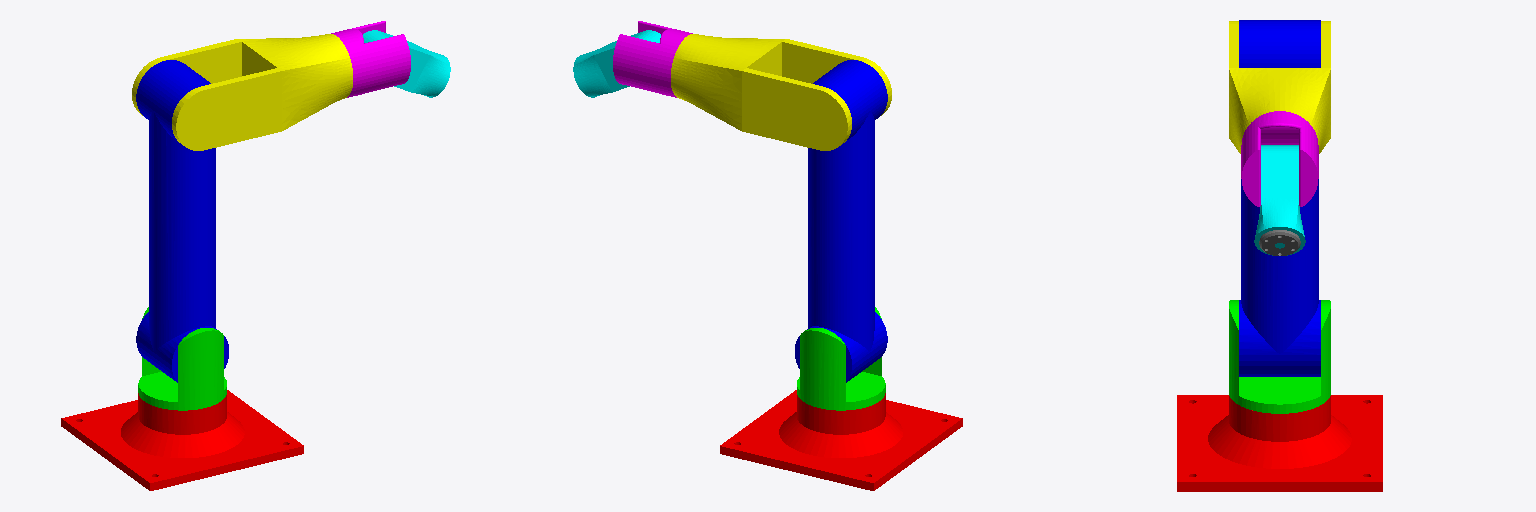
robot.urdf — robot:
<?xml version="1.0" encoding="utf-8" ?>
<!-- This URDF was automatically created by SolidWorks to URDF Exporter! Originally created by [author] ([email redacted]) 
     Commit Version: 1.6.0-4-g7f85cfe  Build Version: 1.6.7995.38578
     For more information, please see http://wiki.ros.org/sw_urdf_exporter -->
<robot name="robot">
    <link name="base_link">
        <inertial>
            <origin xyz="1.5072E-18 -3.3035E-19 0.014315" rpy="0 0 0" />
            <mass value="10" />
            <inertia ixx="0.0017523" ixy="-4.1359E-22" ixz="4.084E-22" iyy="0.0017523" iyz="2.4942E-21" izz="0.0032066" />
        </inertial>
        <visual>
            <origin xyz="0 0 0" rpy="0 0 0" />
            <geometry>
                <mesh filename="package://robot/meshes/base_link.STL" />
            </geometry>
            <material name="">
                <color rgba="1 0 0 1" />
            </material>
        </visual>
        <collision>
            <origin xyz="0 0 0" rpy="0 0 0" />
            <geometry>
                <mesh filename="package://robot/meshes/base_link.STL" />
            </geometry>
        </collision>
    </link>
    <link name="l1">
        <inertial>
            <origin xyz="3.1493E-08 1.2455E-07 0.069097" rpy="0 0 0" />
            <mass value="0.59293" />
            <inertia ixx="0.0013626" ixy="7.6125E-11" ixz="2.0454E-10" iyy="0.0011736" iyz="1.535E-09" izz="0.00056817" />
        </inertial>
        <visual>
            <origin xyz="0 0 0" rpy="0 0 0" />
            <geometry>
                <mesh filename="package://robot/meshes/l1.STL" />
            </geometry>
            <material name="">
                <color rgba="0 1 0 1" />
            </material>
        </visual>
        <collision>
            <origin xyz="0 0 0" rpy="0 0 0" />
            <geometry>
                <mesh filename="package://robot/meshes/l1.STL" />
            </geometry>
        </collision>
    </link>
    <joint name="j1" type="revolute">
        <origin xyz="0 0 0.01" rpy="0 0 0" />
        <parent link="base_link" />
        <child link="l1" />
        <axis xyz="0 0 1" />
        <limit lower="-3.14" upper="3.14" effort="10" velocity="3.14" />
        <dynamics damping="1" friction="1" />
    </joint>
    <link name="l2">
        <inertial>
            <origin xyz="-1.3026E-07 -0.15411 -9.7682E-08" rpy="0 0 0" />
            <mass value="1.3425" />
            <inertia ixx="0.0089696" ixy="-1.817E-08" ixz="-3.4923E-08" iyy="0.0010637" iyz="-6.8644E-09" izz="0.0090131" />
        </inertial>
        <visual>
            <origin xyz="0 0 0" rpy="0 0 0" />
            <geometry>
                <mesh filename="package://robot/meshes/l2.STL" />
            </geometry>
            <material name="">
                <color rgba="0 0 1 1" />
            </material>
        </visual>
        <collision>
            <origin xyz="0 0 0" rpy="0 0 0" />
            <geometry>
                <mesh filename="package://robot/meshes/l2.STL" />
            </geometry>
        </collision>
    </link>
    <joint name="j2" type="revolute">
        <origin xyz="0 0 0.1075" rpy="-1.5708 0 0" />
        <parent link="l1" />
        <child link="l2" />
        <axis xyz="0 0 1" />
        <limit lower="-1.57" upper="1.57" effort="10" velocity="3.14" />
        <dynamics damping="1" friction="1" />
    </joint>
    <link name="l3">
        <inertial>
            <origin xyz="3.2889E-09 0.087702 2.9664E-10" rpy="0 0 0" />
            <mass value="0.9636" />
            <inertia ixx="0.0055636" ixy="-7.5803E-09" ixz="4.3308E-09" iyy="0.0012382" iyz="6.6337E-09" izz="0.005075" />
        </inertial>
        <visual>
            <origin xyz="0 0 0" rpy="0 0 0" />
            <geometry>
                <mesh filename="package://robot/meshes/l3.STL" />
            </geometry>
            <material name="">
                <color rgba="1 1 0 1" />
            </material>
        </visual>
        <collision>
            <origin xyz="0 0 0" rpy="0 0 0" />
            <geometry>
                <mesh filename="package://robot/meshes/l3.STL" />
            </geometry>
        </collision>
    </link>
    <joint name="j3" type="revolute">
        <origin xyz="0 -0.3 0" rpy="0 0 -1.5708" />
        <parent link="l2" />
        <child link="l3" />
        <axis xyz="0 0 1" />
        <limit lower="-3.926" upper="0.785" effort="10" velocity="3.14" />
        <dynamics damping="1" friction="1" />
    </joint>
    <link name="l4">
        <inertial>
            <origin xyz="2.2838E-09 1.5722E-17 0.073879" rpy="0 0 0" />
            <mass value="0.2672" />
            <inertia ixx="0.000372" ixy="-2.6855E-10" ixz="6.605E-11" iyy="0.00032741" iyz="-8.9958E-20" izz="0.00017006" />
        </inertial>
        <visual>
            <origin xyz="0 0 0" rpy="0 0 0" />
            <geometry>
                <mesh filename="package://robot/meshes/l4.STL" />
            </geometry>
            <material name="">
                <color rgba="1 0 1 1" />
            </material>
        </visual>
        <collision>
            <origin xyz="0 0 0" rpy="0 0 0" />
            <geometry>
                <mesh filename="package://robot/meshes/l4.STL" />
            </geometry>
        </collision>
    </link>
    <joint name="j4" type="revolute">
        <origin xyz="0 0.15 0" rpy="-1.5708 0 0" />
        <parent link="l3" />
        <child link="l4" />
        <axis xyz="0 0 1" />
        <limit lower="-3.14" upper="3.14" effort="5" velocity="3.14" />
        <dynamics damping="1" friction="1" />
    </joint>
    <link name="l5">
        <inertial>
            <origin xyz="-1.0364E-08 0.038759 1.6855E-17" rpy="0 0 0" />
            <mass value="0.12934" />
            <inertia ixx="0.00010276" ixy="-3.3558E-10" ixz="3.6536E-10" iyy="4.3659E-05" iyz="-4.874E-10" izz="0.00011346" />
        </inertial>
        <visual>
            <origin xyz="0 0 0" rpy="0 0 0" />
            <geometry>
                <mesh filename="package://robot/meshes/l5.STL" />
            </geometry>
            <material name="">
                <color rgba="0 1 1 1" />
            </material>
        </visual>
        <collision>
            <origin xyz="0 0 0" rpy="0 0 0" />
            <geometry>
                <mesh filename="package://robot/meshes/l5.STL" />
            </geometry>
        </collision>
    </link>
    <joint name="j5" type="revolute">
        <origin xyz="0 0 0.10512" rpy="1.5708 -0.5236 0" />
        <parent link="l4" />
        <child link="l5" />
        <axis xyz="0 0 1" />
        <limit lower="-2.094" upper="1.047" effort="5" velocity="3.14" />
        <dynamics damping="1" friction="1" />
    </joint>
    <link name="l6">
        <inertial>
            <origin xyz="-1.6653E-16 -1.4254E-17 0.0047374" rpy="0 0 0" />
            <mass value="0.022414" />
            <inertia ixx="3.0926E-06" ixy="1.0643E-21" ixz="2.5411E-20" iyy="3.0926E-06" iyz="-5.7814E-21" izz="4.7106E-06" />
        </inertial>
        <visual>
            <origin xyz="0 0 0" rpy="0 0 0" />
            <geometry>
                <mesh filename="package://robot/meshes/l6.STL" />
            </geometry>
            <material name="">
                <color rgba="0.5 0.5 0.5 1" />
            </material>
        </visual>
        <collision>
            <origin xyz="0 0 0" rpy="0 0 0" />
            <geometry>
                <mesh filename="package://robot/meshes/l6.STL" />
            </geometry>
        </collision>
    </link>
    <joint name="j6" type="revolute">
        <origin xyz="0 0.075 0" rpy="-1.5708 0 0" />
        <parent link="l5" />
        <child link="l6" />
        <axis xyz="0 0 1" />
        <limit lower="-6.28" upper="6.28" effort="3" velocity="6.28" />
        <dynamics damping="0.5" friction="0.5" />
    </joint>
    <transmission name="trans_j1">
        <type>transmission_interface/SimpleTransmission</type>
        <joint name="j1">
            <hardwareInterface>hardware_interface/PositionJointInterface</hardwareInterface>
        </joint>
        <actuator name="j1_motor">
            <hardwareInterface>hardware_interface/PositionJointInterface</hardwareInterface>
            <mechanicalReduction>1</mechanicalReduction>
        </actuator>
    </transmission>
    <transmission name="trans_j2">
        <type>transmission_interface/SimpleTransmission</type>
        <joint name="j2">
            <hardwareInterface>hardware_interface/PositionJointInterface</hardwareInterface>
        </joint>
        <actuator name="j2_motor">
            <hardwareInterface>hardware_interface/PositionJointInterface</hardwareInterface>
            <mechanicalReduction>1</mechanicalReduction>
        </actuator>
    </transmission>
    <transmission name="trans_j3">
        <type>transmission_interface/SimpleTransmission</type>
        <joint name="j3">
            <hardwareInterface>hardware_interface/PositionJointInterface</hardwareInterface>
        </joint>
        <actuator name="j3_motor">
            <hardwareInterface>hardware_interface/PositionJointInterface</hardwareInterface>
            <mechanicalReduction>1</mechanicalReduction>
        </actuator>
    </transmission>
    <transmission name="trans_j4">
        <type>transmission_interface/SimpleTransmission</type>
        <joint name="j4">
            <hardwareInterface>hardware_interface/PositionJointInterface</hardwareInterface>
        </joint>
        <actuator name="j4_motor">
            <hardwareInterface>hardware_interface/PositionJointInterface</hardwareInterface>
            <mechanicalReduction>1</mechanicalReduction>
        </actuator>
    </transmission>
    <transmission name="trans_j5">
        <type>transmission_interface/SimpleTransmission</type>
        <joint name="j5">
            <hardwareInterface>hardware_interface/PositionJointInterface</hardwareInterface>
        </joint>
        <actuator name="j5_motor">
            <hardwareInterface>hardware_interface/PositionJointInterface</hardwareInterface>
            <mechanicalReduction>1</mechanicalReduction>
        </actuator>
    </transmission>
    <transmission name="trans_j6">
        <type>transmission_interface/SimpleTransmission</type>
        <joint name="j6">
            <hardwareInterface>hardware_interface/PositionJointInterface</hardwareInterface>
        </joint>
        <actuator name="j6_motor">
            <hardwareInterface>hardware_interface/PositionJointInterface</hardwareInterface>
            <mechanicalReduction>1</mechanicalReduction>
        </actuator>
    </transmission>
    
    <!--Gazebo Plugins -->
    <gazebo>
        <plugin name="control" filename="libgazebo_ros_control.so">
        </plugin>
    </gazebo>
    <gazebo>
        <plugin name = "joint_state_publisher" filename = "libgazebo_ros_joint_state_publisher.so" >
		<jointName>j1, j2, j3, j4, j5, j6</jointName>
        </plugin>
    </gazebo>
    
</robot>

--- Render facts (derived) ---
Views: 3 orthographic renders of the robot side by side, from view 1: azimuth 30°, elevation 25°; view 2: azimuth 150°, elevation 25°; view 3: azimuth 270°, elevation 25°.
Robot: robot — 7 links, 6 joints (6 revolute); root link base_link; default pose: all joints at 0.
Visible links, largest first — view 1: l2, l3, base_link, l1, l4, l5; view 2: l2, l3, base_link, l1, l4, l5; view 3: base_link, l2, l3, l1, l4, l5, l6.
Boxes of the visible links, bbox=[...] form: l2: bbox=[136, 60, 228, 382]; l3: bbox=[132, 34, 352, 150]; base_link: bbox=[61, 390, 303, 490]; l1: bbox=[138, 307, 226, 410]; l4: bbox=[331, 21, 410, 97]; l5: bbox=[363, 30, 450, 97]; l2: bbox=[795, 60, 887, 382]; l3: bbox=[671, 34, 891, 150]; base_link: bbox=[720, 390, 962, 490]; l1: bbox=[797, 307, 885, 410]; l4: bbox=[613, 21, 692, 97]; l5: bbox=[573, 30, 660, 97]; base_link: bbox=[1177, 395, 1382, 491]; l2: bbox=[1239, 20, 1320, 376]; l3: bbox=[1229, 21, 1330, 153]; l1: bbox=[1229, 300, 1330, 413]; l4: bbox=[1241, 111, 1318, 206]; l5: bbox=[1254, 145, 1305, 255]; l6: bbox=[1259, 230, 1300, 255].
Size in the robot's own frame: 0.4421 by 0.2 by 0.455 metres.
Meshes: 7 distinct files referenced, 7 mesh visuals loaded (7 binary STL).
